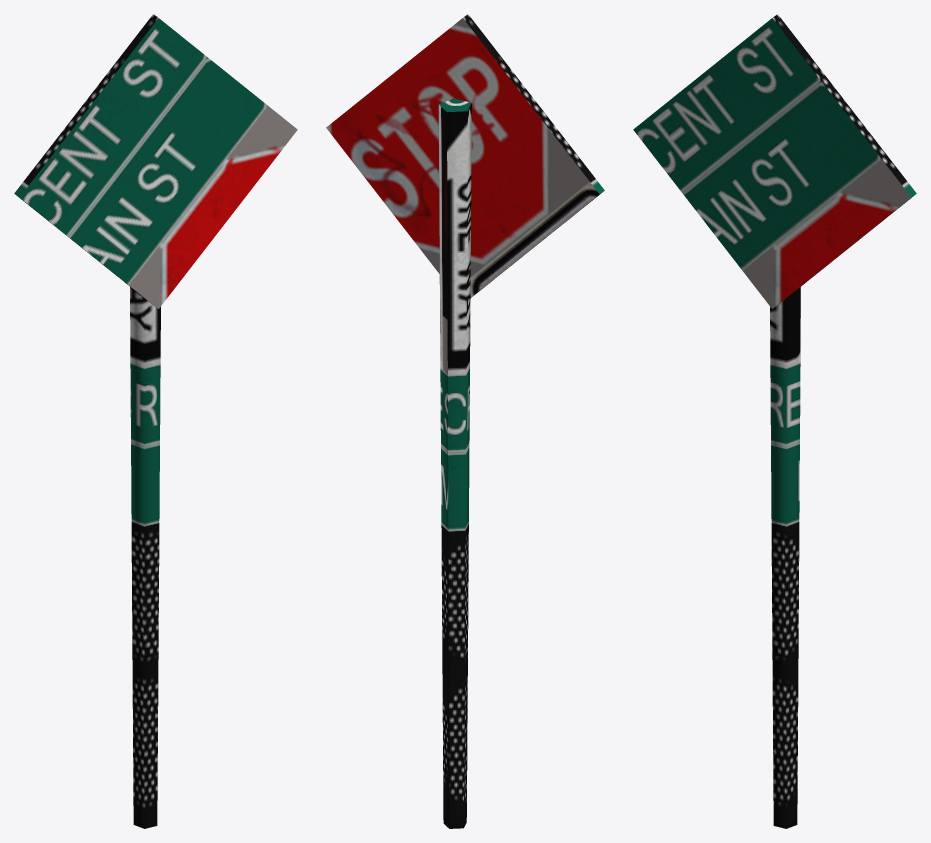
Rendered from SYJ_lupai01.FBX.
3 renders of one model, left to right at view 1: azimuth 30°, elevation 25°; view 2: azimuth 150°, elevation 25°; view 3: azimuth 330°, elevation 25°, orthographic.
Visible parts, largest first — view 1: SYJ_lupai01; view 2: SYJ_lupai01; view 3: SYJ_lupai01.
Boxes of the visible parts, box(x1,y1,x2,y2) form: SYJ_lupai01: box(14, 14, 297, 828); SYJ_lupai01: box(326, 14, 604, 828); SYJ_lupai01: box(633, 14, 916, 828).
Bounding box in the file's own units: 45.38 × 127 × 6.07.
1 material, 1 textured.
